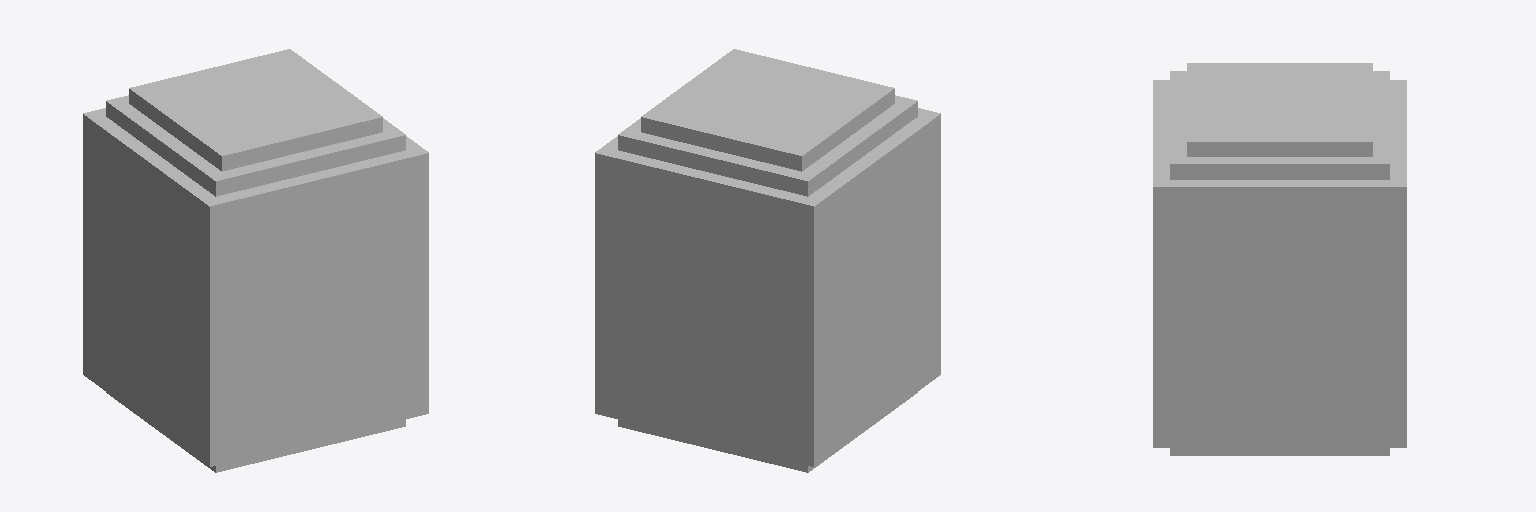
File: Robot.obj
3 renders of one model, left to right at view 1: azimuth 30°, elevation 25°; view 2: azimuth 150°, elevation 25°; view 3: azimuth 270°, elevation 25°, orthographic.
Visible parts, largest first — view 1: object 1; view 2: object 1; view 3: object 1.
Boxes of the visible parts, <box> form: object 1: <box>83,49,428,472</box>; object 1: <box>595,49,940,472</box>; object 1: <box>1153,63,1406,455</box>.
Size of the model in its own units: 1.5 by 2 by 1.5.